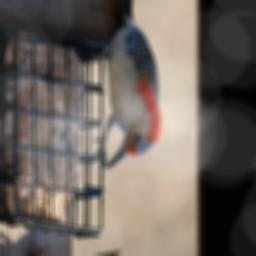Woodpecker: (91, 0, 161, 168)
